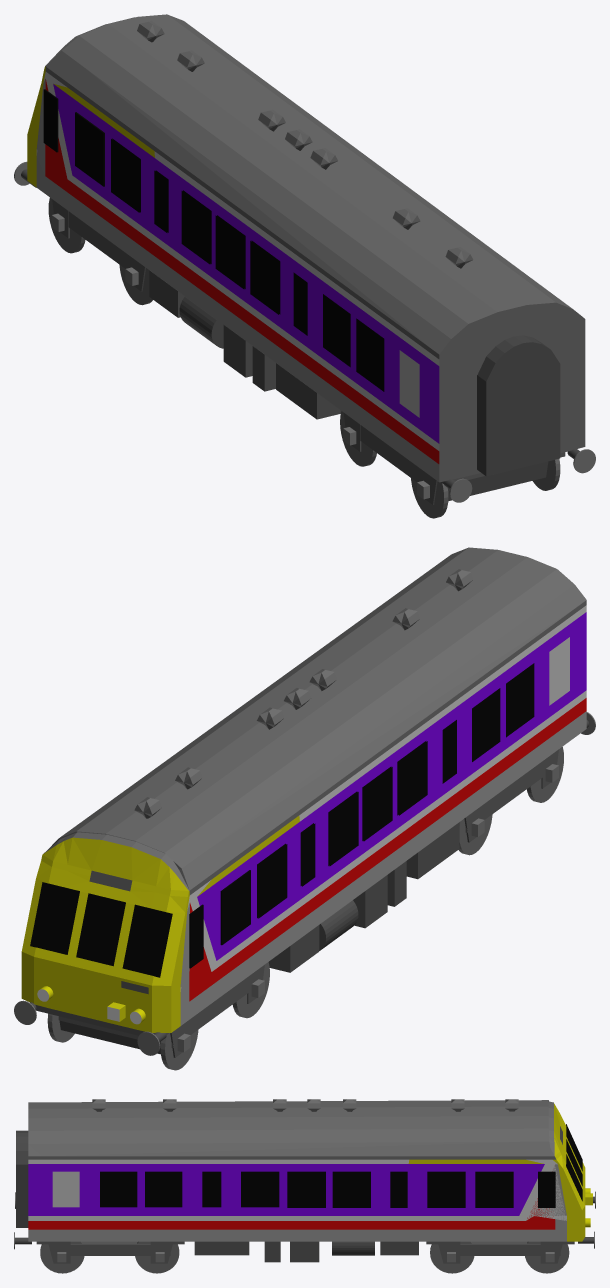
File: BR-101-dtcl-nse-old.dae
3 views of the same model, one above another, from view 1: azimuth 30°, elevation 25°; view 2: azimuth 150°, elevation 25°; view 3: azimuth 270°, elevation 25° (orthographic). The views are drawn at different scales.
Visible parts, largest first — view 1: BR-cl101-front_rear, Cube, Cube_060_001, Cube_001, Cube_043, Cube_043_001, Cylinder_002, Cube_003, Cube_004, Cube_002, Cylinder_011_001; view 2: BR-cl101-front_rear, Cube_043, Cube_001, Cube_043_001, Cube_004, Cube_003, Cube_061, Cylinder_002, Cylinder_010, Cube_002; view 3: BR-cl101-front_rear, Cube_043, Cube_043_001, Cube, Cube_001, Cube_003, Cylinder_008_001, Cylinder_003, Cylinder_008, Cylinder_009_001, Cylinder_009, Cube_004 (+5 smaller).
Boxes of the visible parts, x1=… form: BR-cl101-front_rear: x1=27, y1=14, x2=585, y2=482; Cube: x1=477, y1=335, x2=560, y2=476; Cube_060_001: x1=425, y1=452, x2=565, y2=504; Cube_001: x1=276, y1=363, x2=341, y2=419; Cube_043: x1=53, y1=211, x2=142, y2=281; Cube_043_001: x1=360, y1=425, x2=433, y2=494; Cylinder_002: x1=179, y1=296, x2=223, y2=348; Cube_003: x1=223, y1=325, x2=252, y2=377; Cube_004: x1=149, y1=270, x2=184, y2=317; Cube_002: x1=252, y1=346, x2=275, y2=391; Cylinder_011_001: x1=411, y1=478, x2=448, y2=518; BR-cl101-front_rear: x1=21, y1=547, x2=586, y2=1035; Cube_043: x1=58, y1=967, x2=262, y2=1047; Cube_001: x1=406, y1=822, x2=459, y2=879; Cube_043_001: x1=465, y1=751, x2=556, y2=832; Cube_004: x1=268, y1=925, x2=319, y2=972; Cube_003: x1=353, y1=875, x2=387, y2=928; Cube_061: x1=59, y1=1020, x2=187, y2=1057; Cylinder_002: x1=319, y1=900, x2=358, y2=950; Cylinder_010: x1=160, y1=1030, x2=198, y2=1070; Cube_002: x1=387, y1=861, x2=406, y2=906; BR-cl101-front_rear: x1=28, y1=1099, x2=585, y2=1241; Cube_043: x1=460, y1=1241, x2=560, y2=1255; Cube_043_001: x1=70, y1=1241, x2=170, y2=1255; Cube: x1=16, y1=1130, x2=28, y2=1227; Cube_001: x1=194, y1=1241, x2=249, y2=1255; Cube_003: x1=290, y1=1241, x2=319, y2=1262; Cylinder_008_001: x1=40, y1=1241, x2=84, y2=1273; Cylinder_003: x1=332, y1=1241, x2=374, y2=1255; Cylinder_008: x1=430, y1=1241, x2=474, y2=1273; Cylinder_009_001: x1=135, y1=1241, x2=179, y2=1273; Cylinder_009: x1=525, y1=1241, x2=569, y2=1273; Cube_004: x1=380, y1=1241, x2=418, y2=1255.
Bounding box in the file's own units: 2.04 × 10.32 × 3.05.
